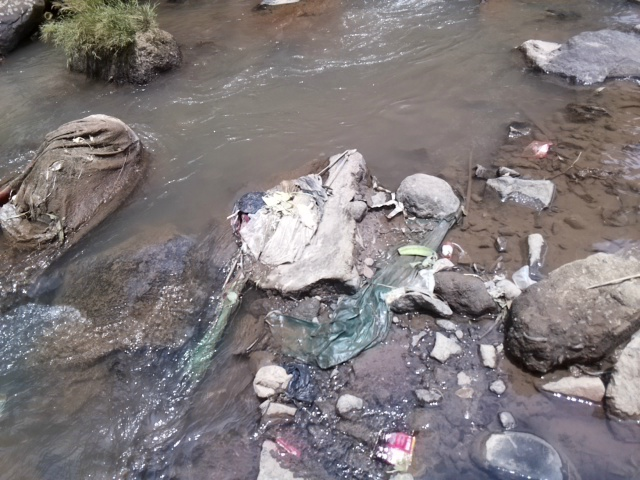Sampah_Plastik: (370, 425, 416, 473), (531, 141, 550, 158)
